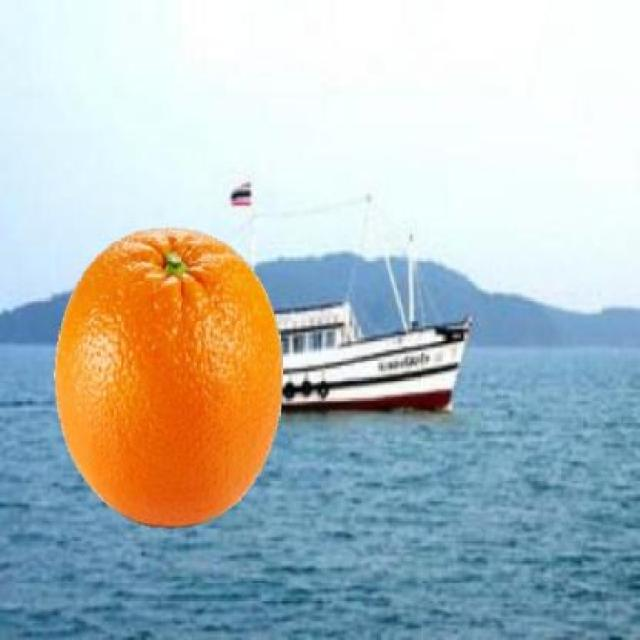Orange: (51, 225, 284, 529)
